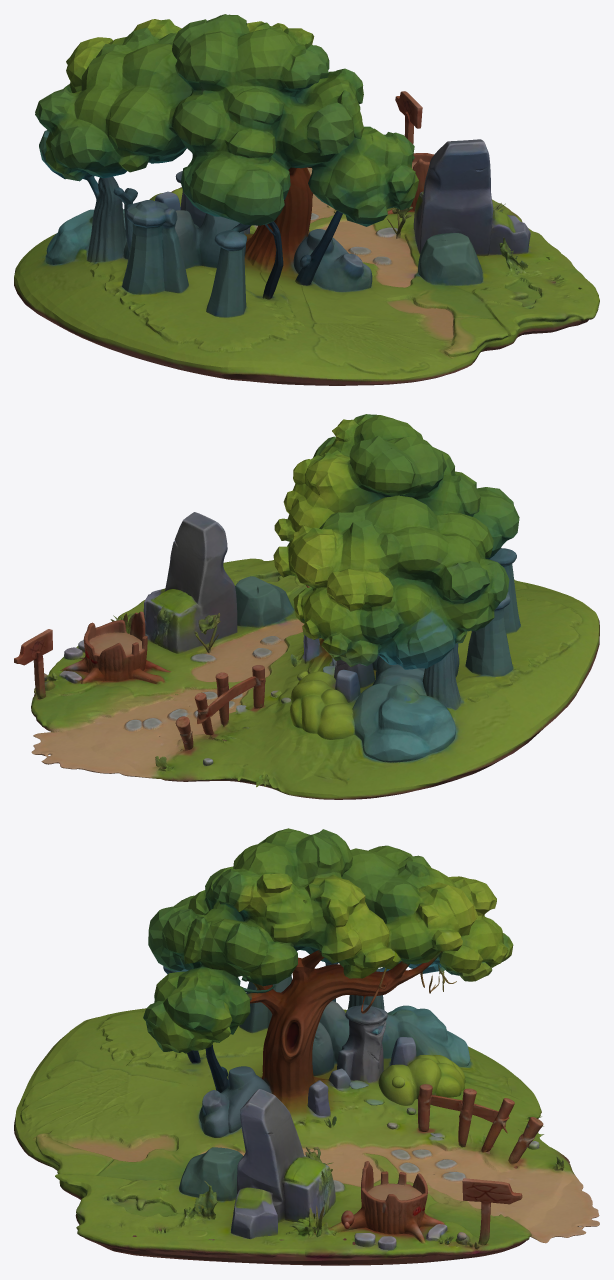
Rendered from forest.glb.
3 views of the same model, one above another, from view 1: azimuth 30°, elevation 25°; view 2: azimuth 150°, elevation 25°; view 3: azimuth 270°, elevation 25° (orthographic). The views are drawn at different scales.
Visible parts, largest first — view 1: tripo_node_9e6dc63b-041b-458a-a28b-0238fe218e33; view 2: tripo_node_9e6dc63b-041b-458a-a28b-0238fe218e33; view 3: tripo_node_9e6dc63b-041b-458a-a28b-0238fe218e33.
Boxes of the visible parts, <box> form: tripo_node_9e6dc63b-041b-458a-a28b-0238fe218e33: <box>14,14,599,385</box>; tripo_node_9e6dc63b-041b-458a-a28b-0238fe218e33: <box>14,414,599,799</box>; tripo_node_9e6dc63b-041b-458a-a28b-0238fe218e33: <box>14,828,599,1265</box>.
Size of the model in its own units: 0.9262 by 0.5543 by 0.9992.
Materials: 1 (1 with a texture image).
